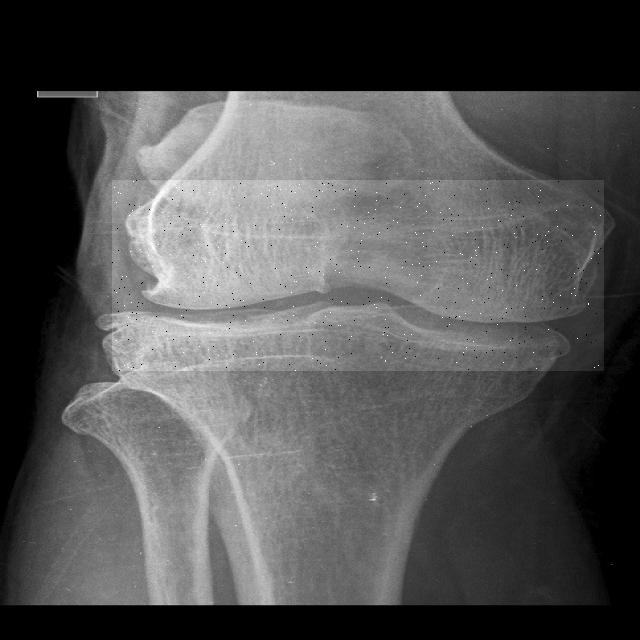osteo: (112, 180, 604, 371)
